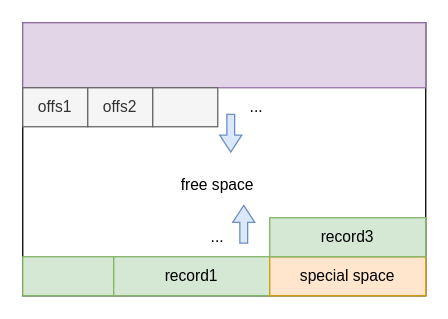
This 448x319 diagram has some shape labels left out. Here are the shapes that lost their labels. From the top down, the box of each, then its label:
(21, 21, 426, 88): page_header
(151, 86, 218, 127): offs3
(21, 255, 114, 296): record2
